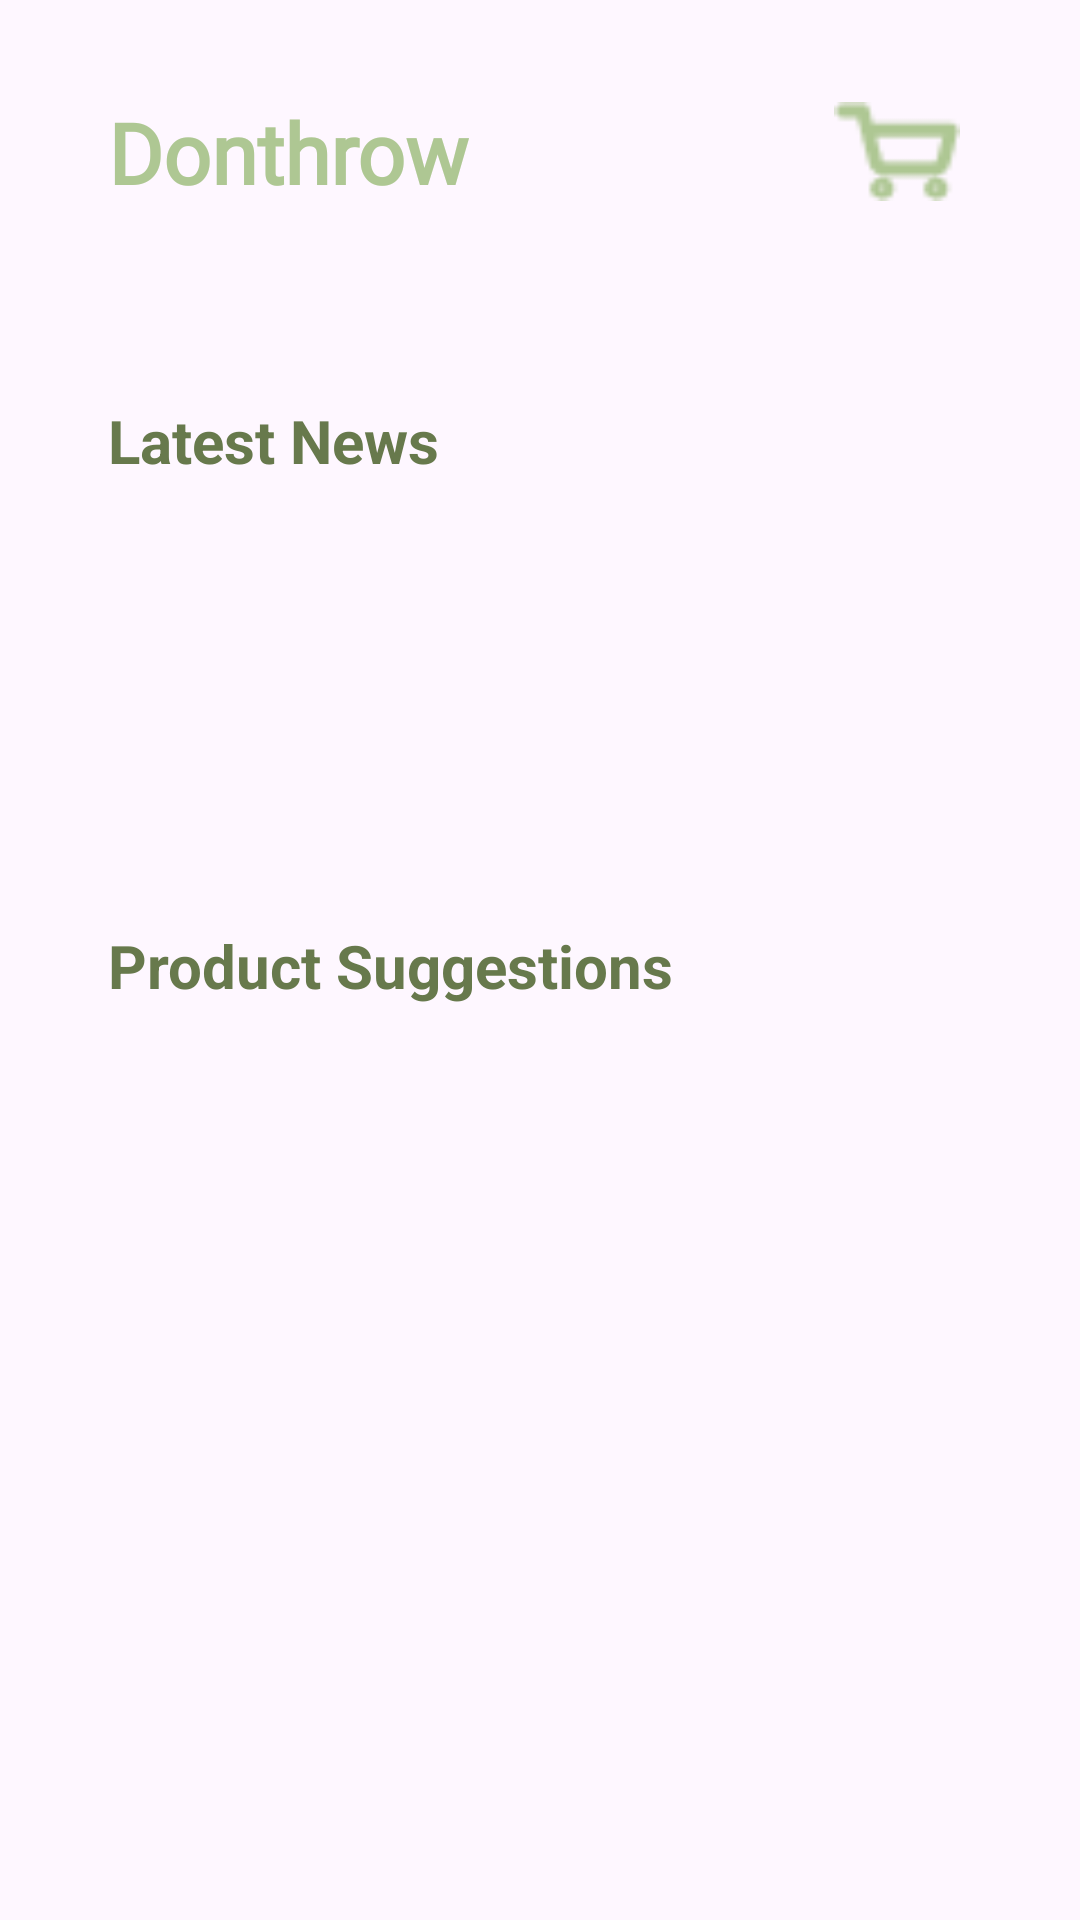

Screen size 1080 x 1920. Icon name, then its center in pixels as (x,y):
Cart: (897,151)
